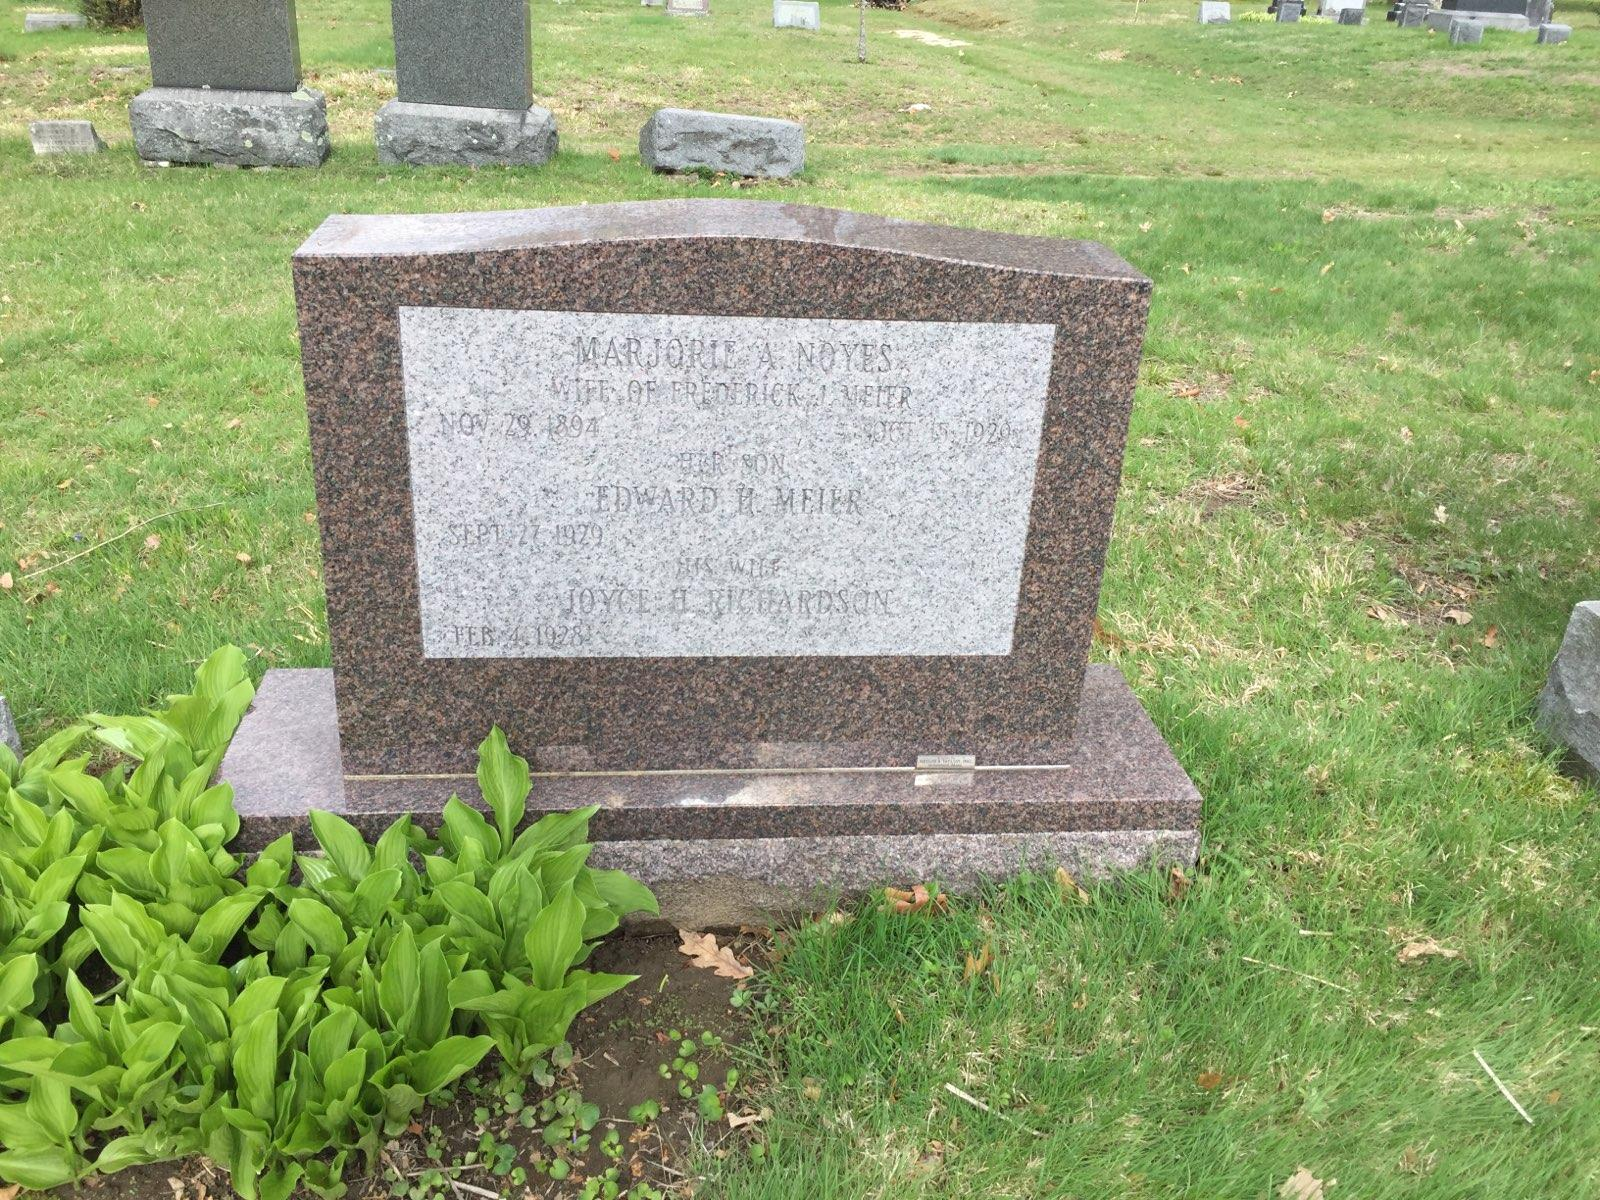upright: (291, 197, 1145, 763)
